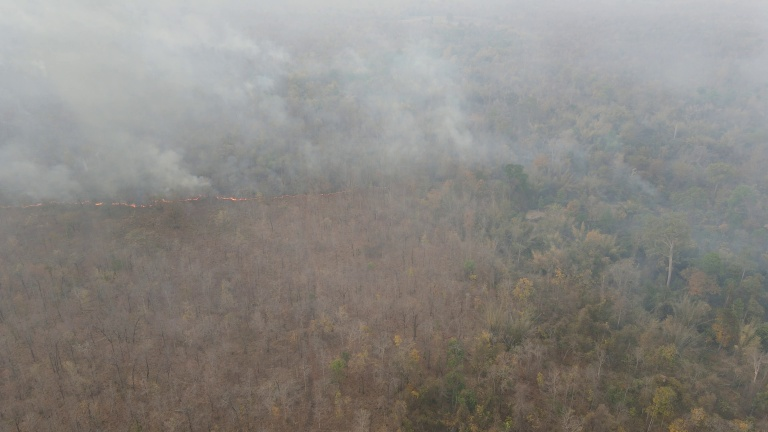fire: (3, 181, 353, 217)
smoke: (1, 1, 550, 199), (582, 1, 768, 278)
